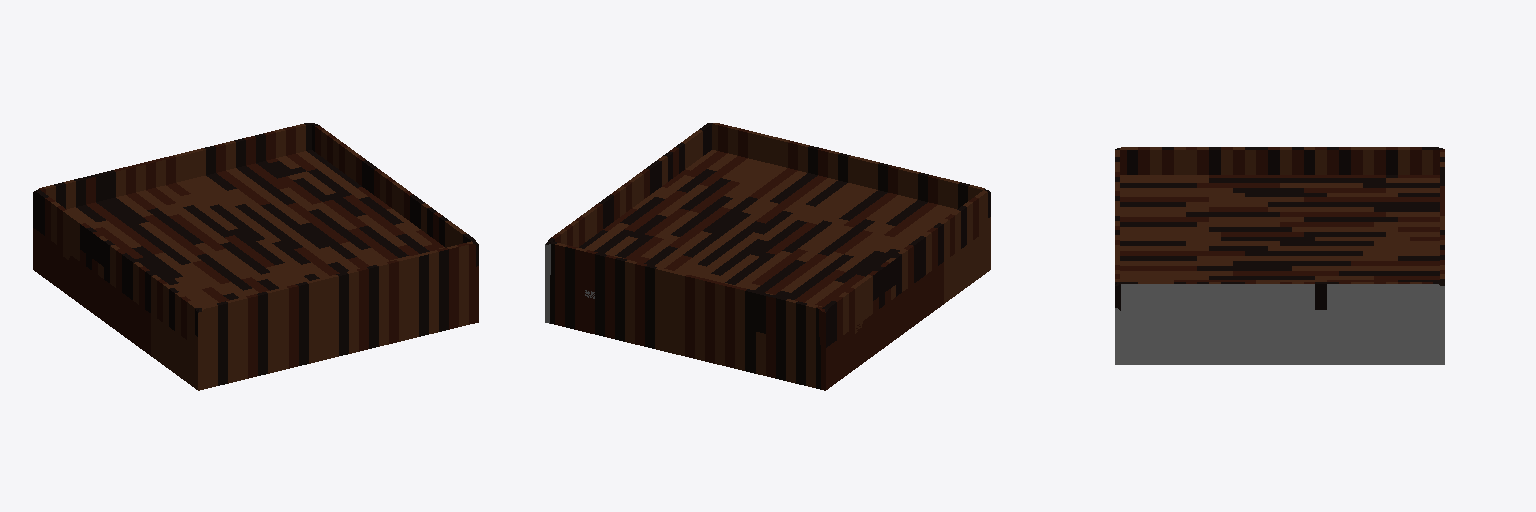
The model's file is nacelle.obj.
3 renders of one model, left to right at view 1: azimuth 30°, elevation 25°; view 2: azimuth 150°, elevation 25°; view 3: azimuth 270°, elevation 25°, orthographic.
Parts seen in each view (by area): view 1: pCube1; view 2: pCube1; view 3: pCube1.
Boxes of the visible parts, x1=… form: pCube1: x1=33, y1=123, x2=478, y2=390; pCube1: x1=545, y1=123, x2=990, y2=390; pCube1: x1=1115, y1=147, x2=1444, y2=364.
Bounding box in the file's own units: 23.57 × 6.46 × 24.05.